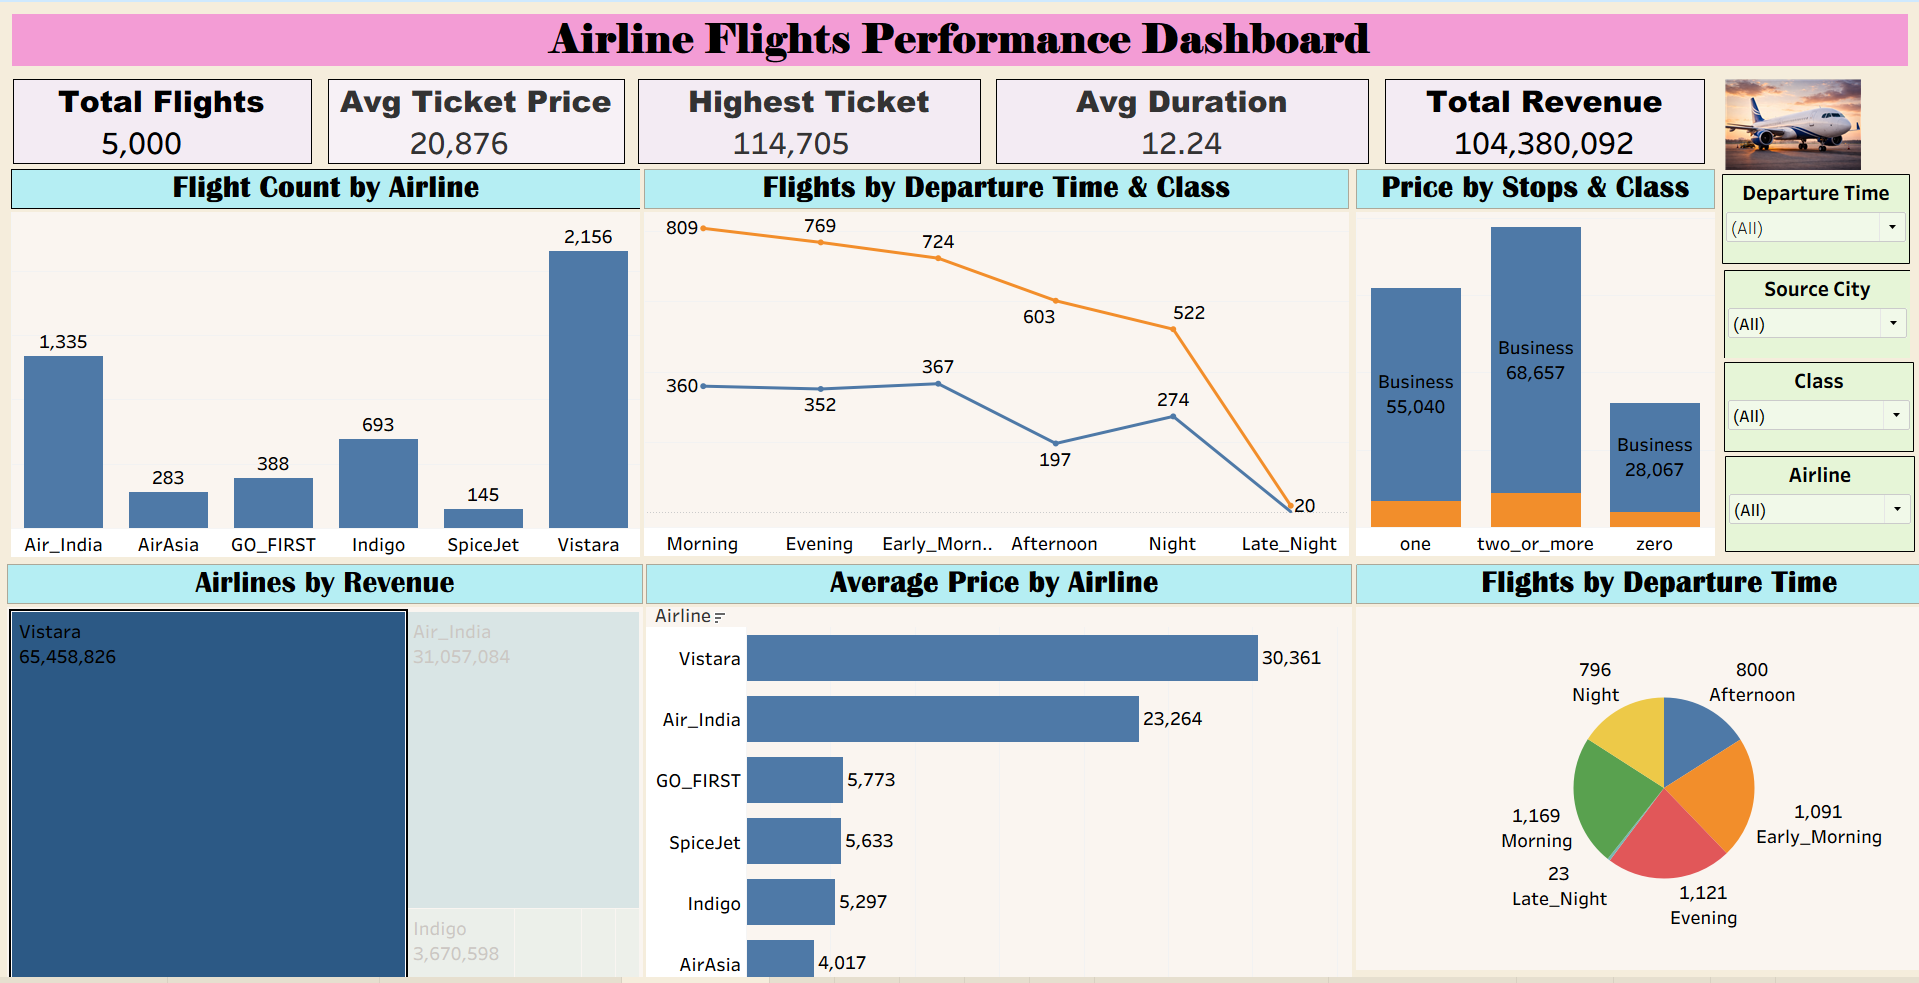

What the dashboard file says about the page in this screenshot:
{"tool":"tableau","page":{"name":"Dashboard 1","canvas":[1000,1000],"units":"permille","ordinal":0},"visuals":[{"type":"title","box":[4.2,10.6,991.5,79.2]},{"type":"worksheet","title":"KPI 1","mark":"Text","box":[6.9,79.2,155.9,109.5]},{"type":"worksheet","title":"KPI 2","mark":"Automatic","box":[170.8,79.2,158.3,112.1]},{"type":"worksheet","title":"KPI 4","mark":"Automatic","box":[332.3,79.2,179.6,112.1]},{"type":"worksheet","title":"KPI 3","mark":"Automatic","box":[518.7,79.2,199.5,112.1]},{"type":"worksheet","title":"KPI 6","mark":"Automatic","box":[721.3,79.2,168.3,112.1]},{"type":"image","param":"C:/Users/dell/Downloads/ChatGPT Image Jan 24, 2026, 02_35_37 PM.png","box":[898.4,79.2,96.6,93.7]},{"type":"worksheet","title":"Flight Count by Airline","mark":"Automatic","rows":["Flight Name"],"cols":["Airline"],"box":[5.6,171.5,327.9,398.4]},{"type":"worksheet","title":"Filght By Departure Time","mark":"Line","rows":["Calculation_152840939839176704"],"cols":["departure_time"],"box":[335.4,171.5,367.2,397.1]},{"type":"worksheet","title":"Price by Stops & Class","mark":"Bar","rows":["price"],"cols":["stops"],"box":[706.4,171.5,187,397.1]},{"type":"filter","title":"Flights by Departure Time","param":"[federated.1pxh60a0mlfezl14lb1b71uz4lyt].[none:departure_time:nk]","box":[897.1,176.8,97.9,92.4]},{"type":"filter","title":"Flight Count by Airline","param":"[federated.1pxh60a0mlfezl14lb1b71uz4lyt].[none:source_city:nk]","box":[897.8,274.4,97.3,91]},{"type":"filter","title":"Price by Stops & Class","param":"[federated.1pxh60a0mlfezl14lb1b71uz4lyt].[none:class:nk]","box":[897.8,369.4,99.1,92.4]},{"type":"filter","title":"Flight Count by Airline","param":"[federated.1pxh60a0mlfezl14lb1b71uz4lyt].[none:Airline:nk]","box":[898.4,465.7,99.1,98.9]}]}

Visuals, with their boxes on the dashboard's canvas, which has no fixed pixel size, in thousandths of its width and height (x1, y1, x2, y2). These are canvas units, not pixel positions in the 1919x983 screenshot, which may show the page scaled, cropped or inside an application window:
title: crop(4, 11, 996, 90)
"KPI 1" worksheet (Text marks): crop(7, 79, 163, 189)
"KPI 2" worksheet: crop(171, 79, 329, 191)
"KPI 4" worksheet: crop(332, 79, 512, 191)
"KPI 3" worksheet: crop(519, 79, 718, 191)
"KPI 6" worksheet: crop(721, 79, 890, 191)
image: crop(898, 79, 995, 173)
"Flight Count by Airline" worksheet: crop(6, 172, 334, 570)
"Filght By Departure Time" worksheet (Line marks): crop(335, 172, 703, 569)
"Price by Stops & Class" worksheet (Bar marks): crop(706, 172, 893, 569)
"Flights by Departure Time" filter: crop(897, 177, 995, 269)
"Flight Count by Airline" filter: crop(898, 274, 995, 365)
"Price by Stops & Class" filter: crop(898, 369, 997, 462)
"Flight Count by Airline" filter: crop(898, 466, 998, 565)
